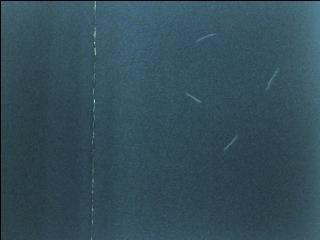scratch: (219, 125, 242, 153), (181, 90, 204, 110), (266, 67, 280, 90), (195, 33, 217, 43)
